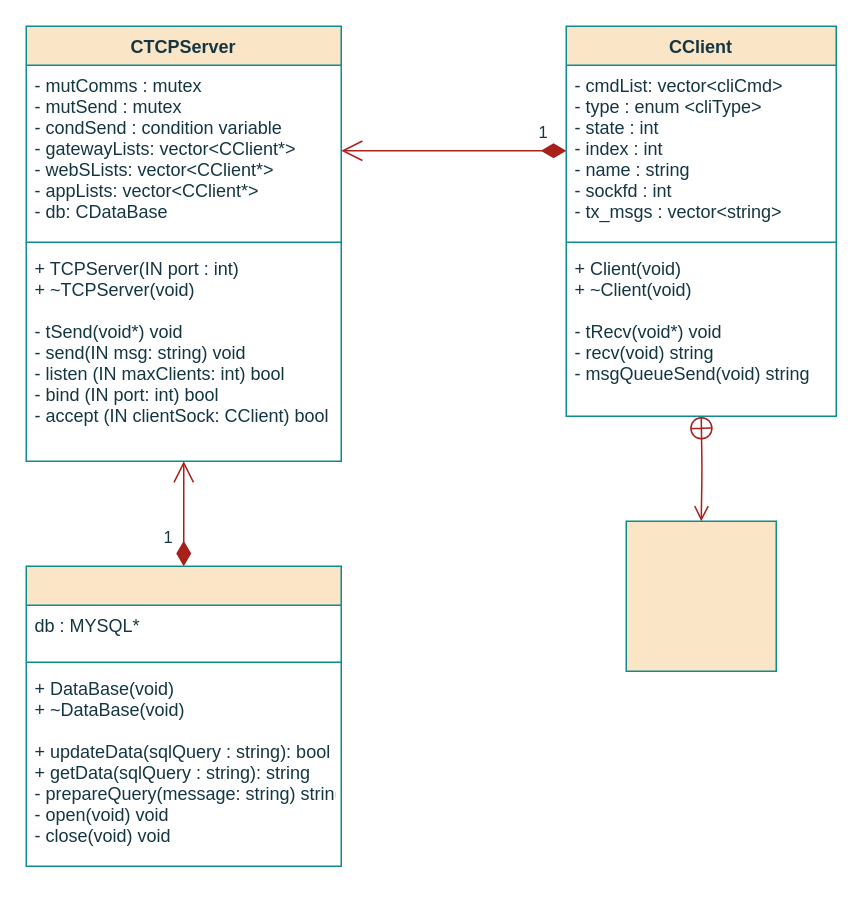
Image size: 863x897. Some labels were removed from this diagram. The box of each missing label's shape, as (x1, y1, x2, y2) in pixels:
CDataBase: (25, 565, 341, 866)
enumeration: cliType gateway webSite application: (625, 520, 776, 671)
